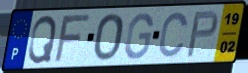C: (157, 11, 190, 60)
F: (52, 12, 93, 65)
G: (123, 12, 155, 62)
O: (92, 12, 125, 63)
P: (185, 9, 220, 59)
Q: (26, 14, 59, 65)
